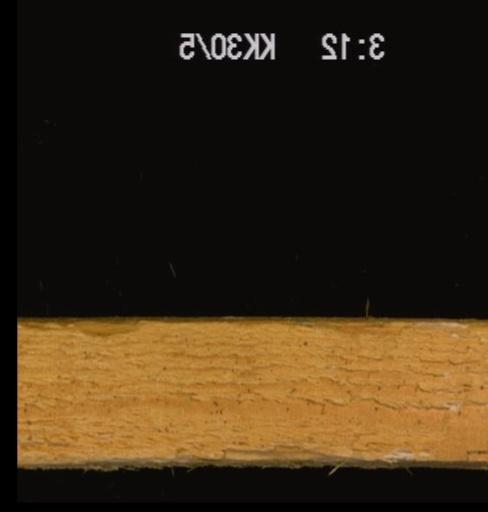wave: (148, 448, 382, 472), (222, 316, 443, 332), (17, 316, 148, 336)
